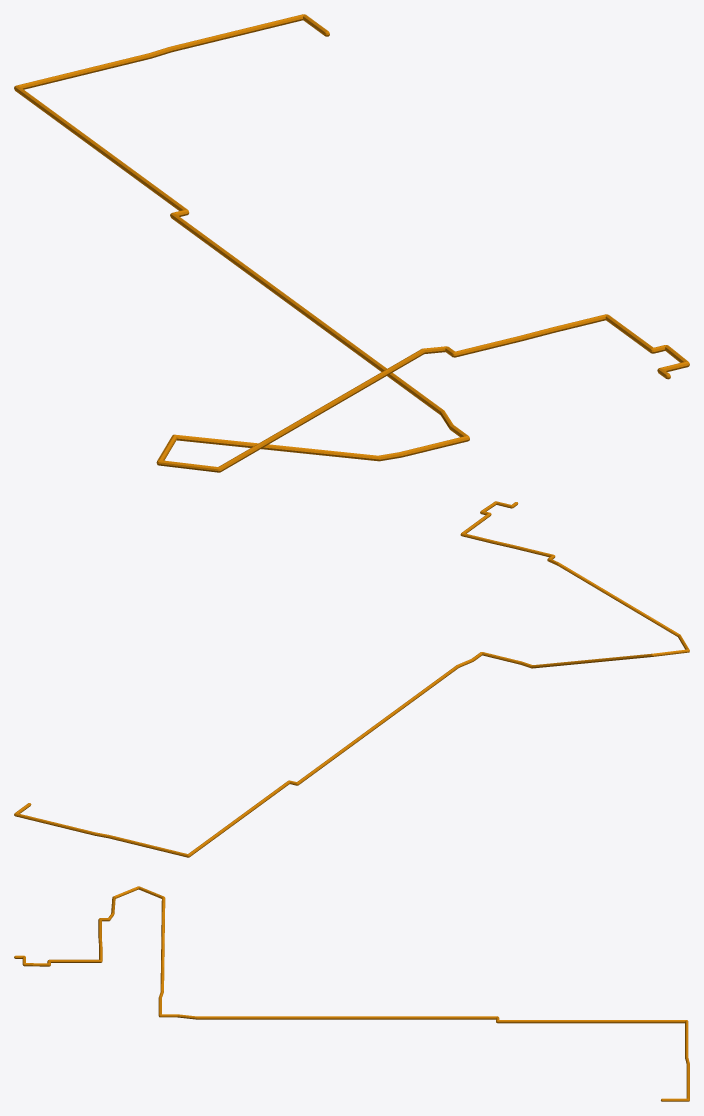
3 renders of one model, top to bottom at view 1: azimuth 30°, elevation 25°; view 2: azimuth 150°, elevation 25°; view 3: azimuth 270°, elevation 25°, orthographic. The views are drawn at different scales.
Size of the model in its own units: 2406 by 520 by 3931.
